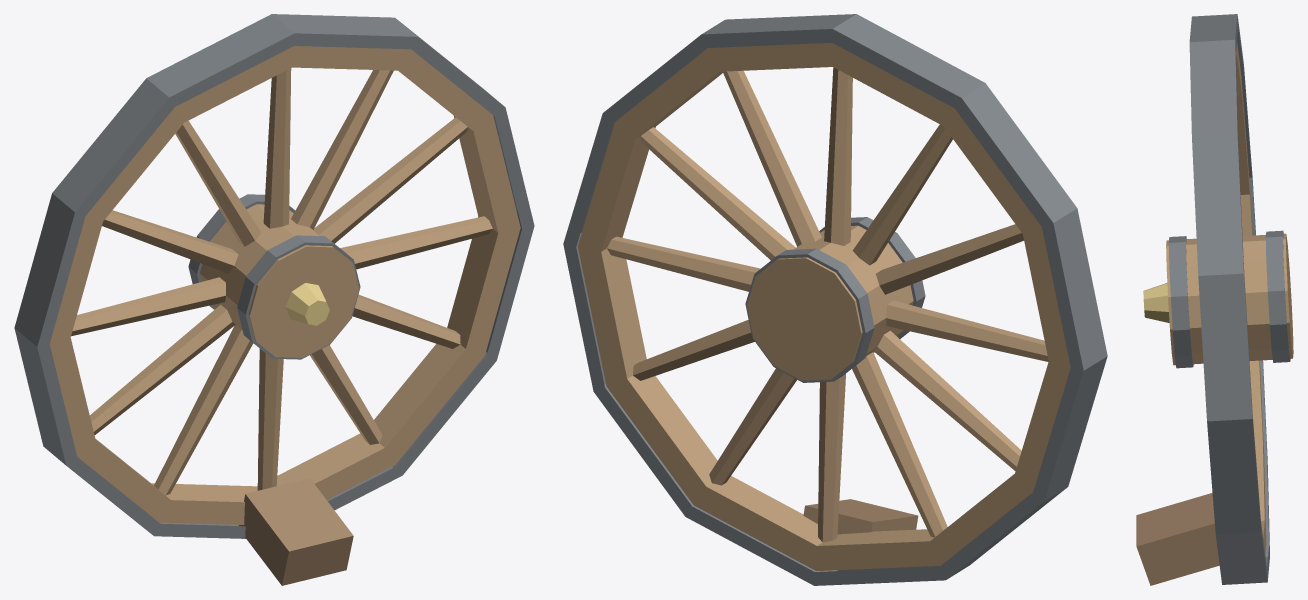
The model's file is wagon_wheel.glb.
The picture shows the model from 3 angles, left to right: view 1: azimuth 30°, elevation 25°; view 2: azimuth 150°, elevation 25°; view 3: azimuth 270°, elevation 25°; orthographic projection. The views are drawn at different scales.
Visible parts, largest first — view 1: Wheel_Woodwork, Wheel_IronTire, Wheel_Chock, Wheel_AxleCap; view 2: Wheel_Woodwork, Wheel_IronTire, Wheel_Chock; view 3: Wheel_IronTire, Wheel_Woodwork, Wheel_Chock, Wheel_AxleCap.
Boxes of the visible parts, x1,y1,x2,y2 form: Wheel_Woodwork: (50, 46, 520, 524); Wheel_IronTire: (14, 14, 534, 538); Wheel_Chock: (239, 478, 353, 585); Wheel_AxleCap: (285, 283, 329, 325); Wheel_Woodwork: (578, 43, 1070, 570); Wheel_IronTire: (563, 14, 1107, 585); Wheel_Chock: (803, 499, 918, 534); Wheel_IronTire: (1168, 14, 1290, 584); Wheel_Woodwork: (1166, 42, 1293, 553); Wheel_Chock: (1136, 493, 1219, 585); Wheel_AxleCap: (1143, 283, 1169, 322).
Size of the model in its own units: 2 by 2.05 by 0.5499.
